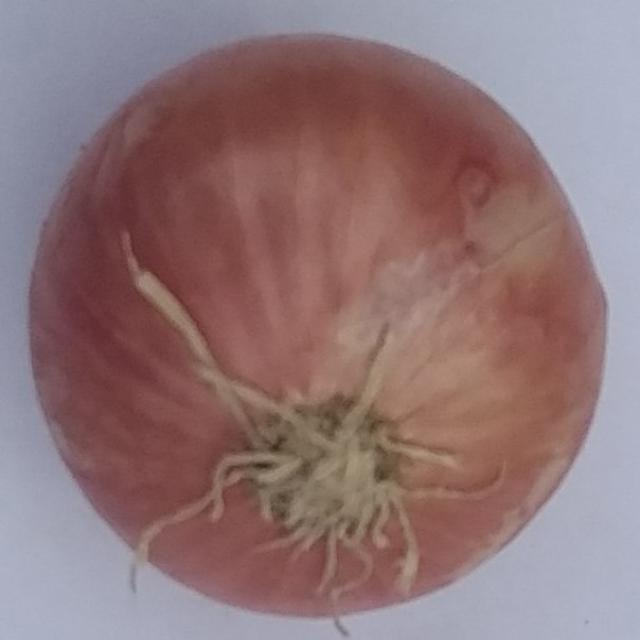onion: (22, 26, 612, 628)
